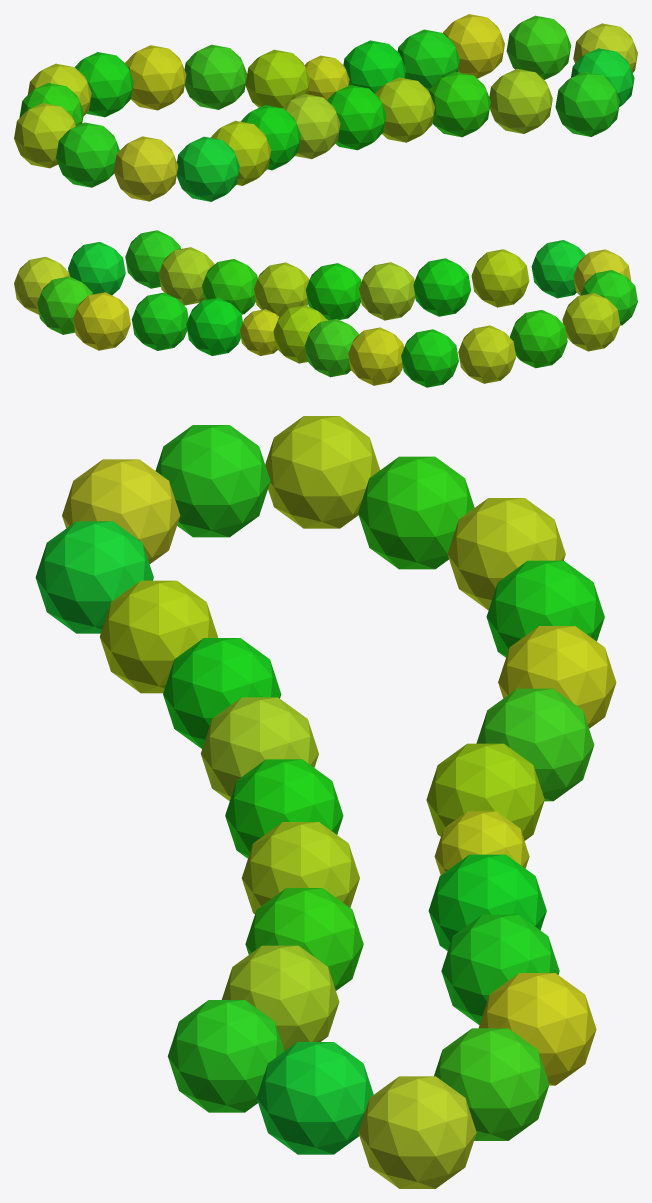
The model's file is Bead$1.fbx.
The picture shows the model from 3 angles, top to bottom: view 1: azimuth 30°, elevation 25°; view 2: azimuth 150°, elevation 25°; view 3: azimuth 270°, elevation 25°; orthographic projection. The views are drawn at different scales.
Visible parts, largest first — view 1: Icosphere.024; view 2: Icosphere.024; view 3: Icosphere.024.
Part boxes in pixels (box(x1,y1,x2,y2)): Icosphere.024: box(14, 14, 637, 201); Icosphere.024: box(14, 230, 637, 387); Icosphere.024: box(35, 416, 616, 1188).
Size of the model in its own units: 1388 by 297 by 609.
